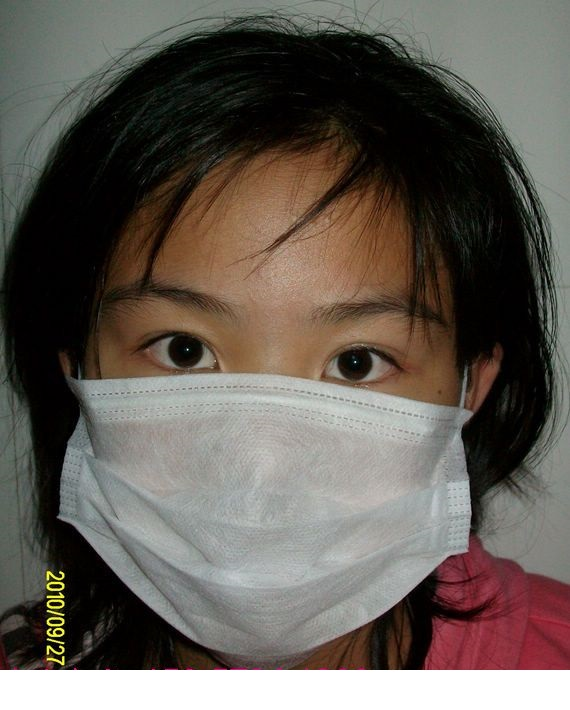face_mask: (83, 163, 451, 664)
